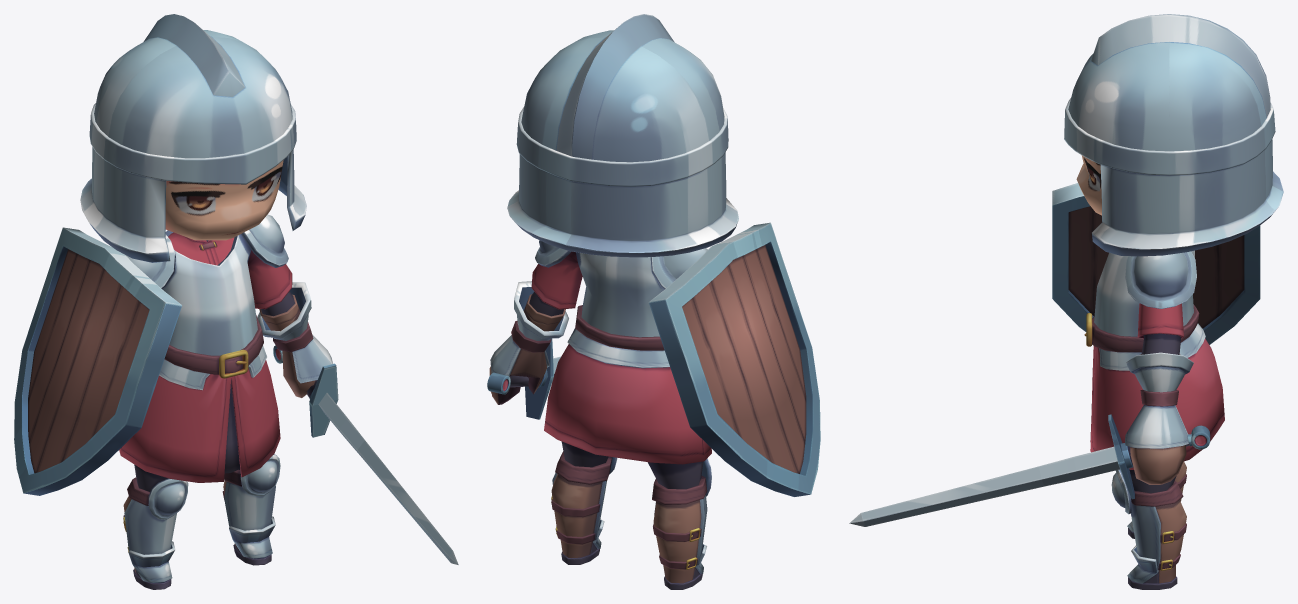
Rendered from knight.fbx.
3 views of the same model, side by side, from view 1: azimuth 30°, elevation 25°; view 2: azimuth 150°, elevation 25°; view 3: azimuth 270°, elevation 25° (orthographic). The views are drawn at different scales.
Parts seen in each view (by area): view 1: knight, shield, sword; view 2: knight, shield, sword; view 3: knight, shield, sword.
Boxes of the visible parts, x1,y1,x2,y2 form: knight: [80, 14, 332, 589]; shield: [14, 227, 181, 495]; sword: [273, 345, 458, 564]; knight: [489, 14, 738, 589]; shield: [648, 222, 820, 496]; sword: [487, 338, 560, 419]; knight: [1064, 14, 1283, 589]; shield: [1052, 183, 1260, 344]; sword: [849, 414, 1210, 526].
Bounding box in the file's own units: 114 × 189 × 136.
